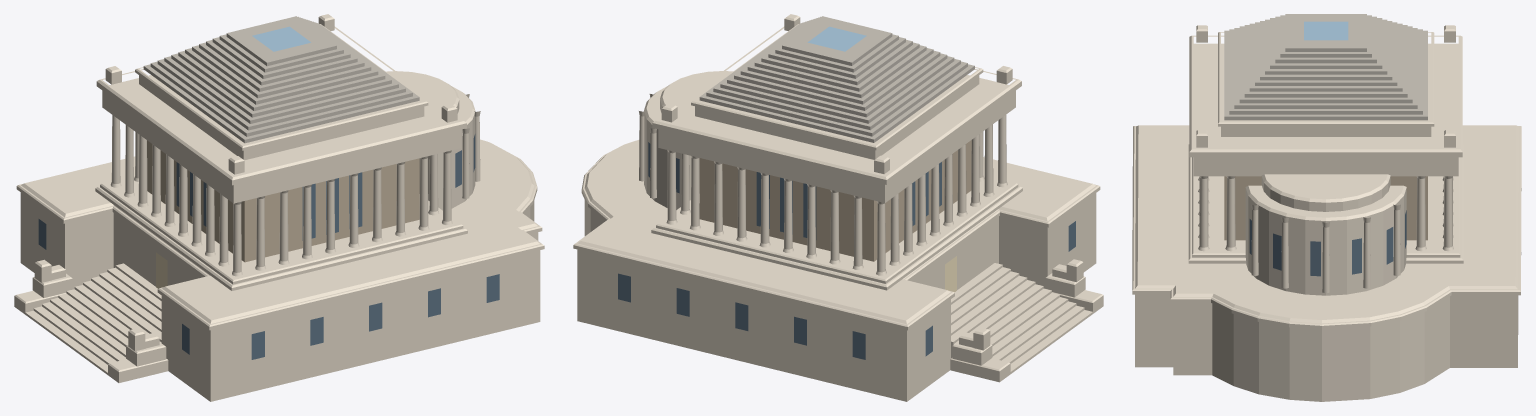
The model's file is dc-house-of-the-temple.glb.
3 renders of one model, left to right at view 1: azimuth 30°, elevation 25°; view 2: azimuth 150°, elevation 25°; view 3: azimuth 270°, elevation 25°, orthographic.
Visible parts, largest first — view 1: House of the Temple; view 2: House of the Temple; view 3: House of the Temple.
Part boxes in pixels (left/top/right/bottom): House of the Temple: left=14, top=14, right=544, bottom=401; House of the Temple: left=573, top=14, right=1103, bottom=401; House of the Temple: left=1132, top=14, right=1521, bottom=401.
Bounding box in the file's own units: 62.05 × 33.21 × 45.9.
